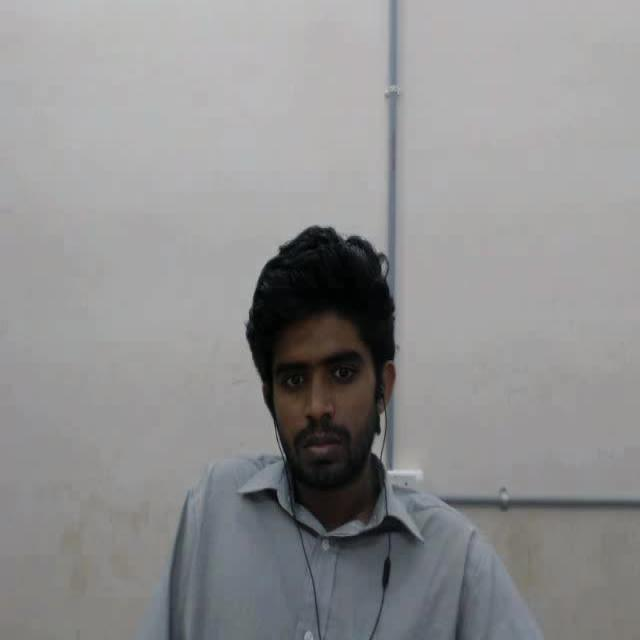Engaged: (216, 216, 447, 504)
